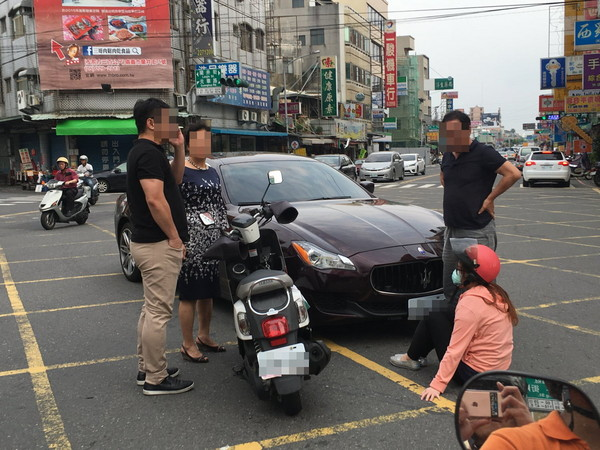helmet: (461, 241, 509, 282)
